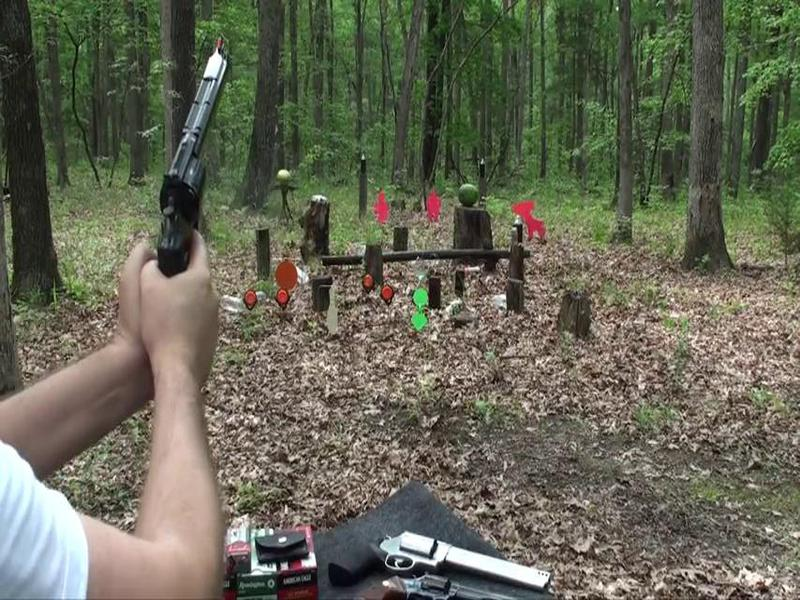Revolver: (148, 28, 250, 290)
